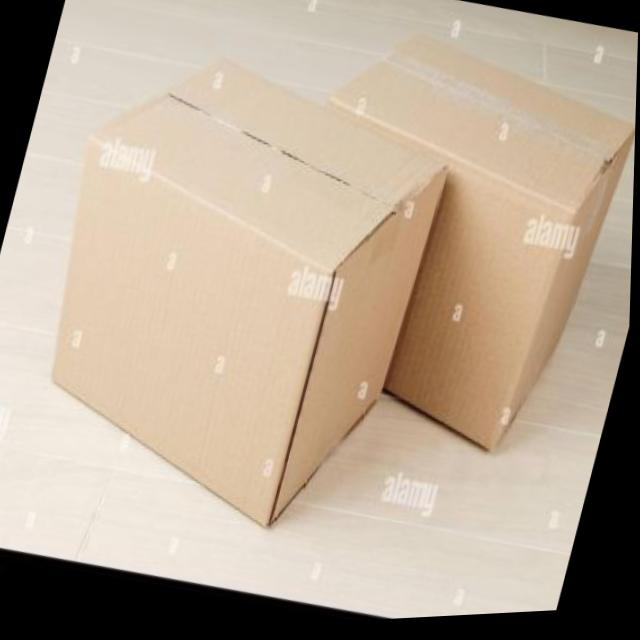box: (0, 30, 484, 568), (239, 6, 639, 503)
